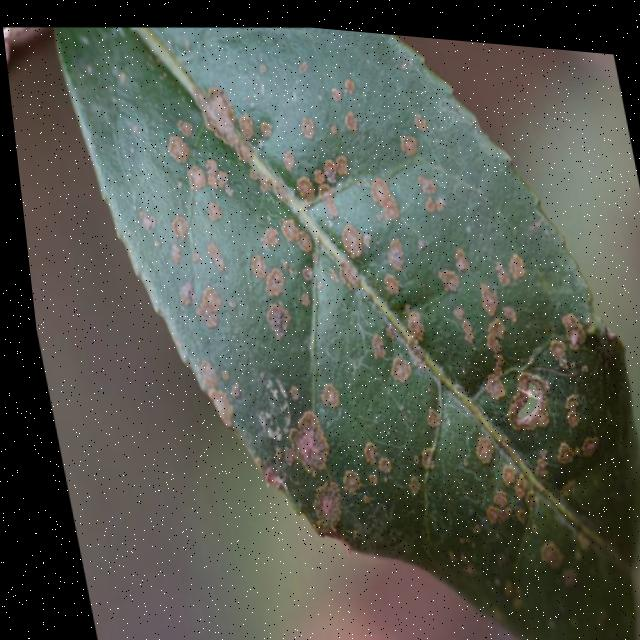Tea algae leaf spot: (148, 49, 640, 639)
